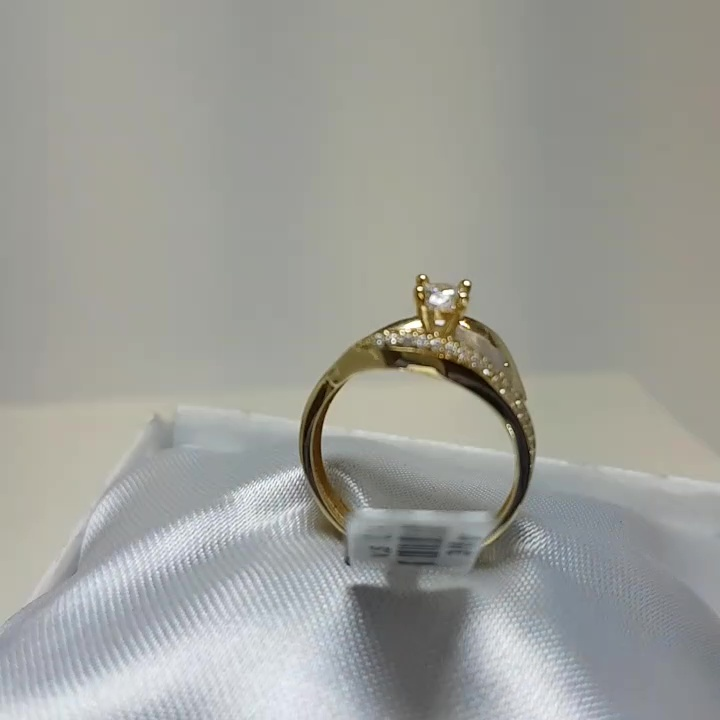Ring 6: (275, 267, 574, 582)
